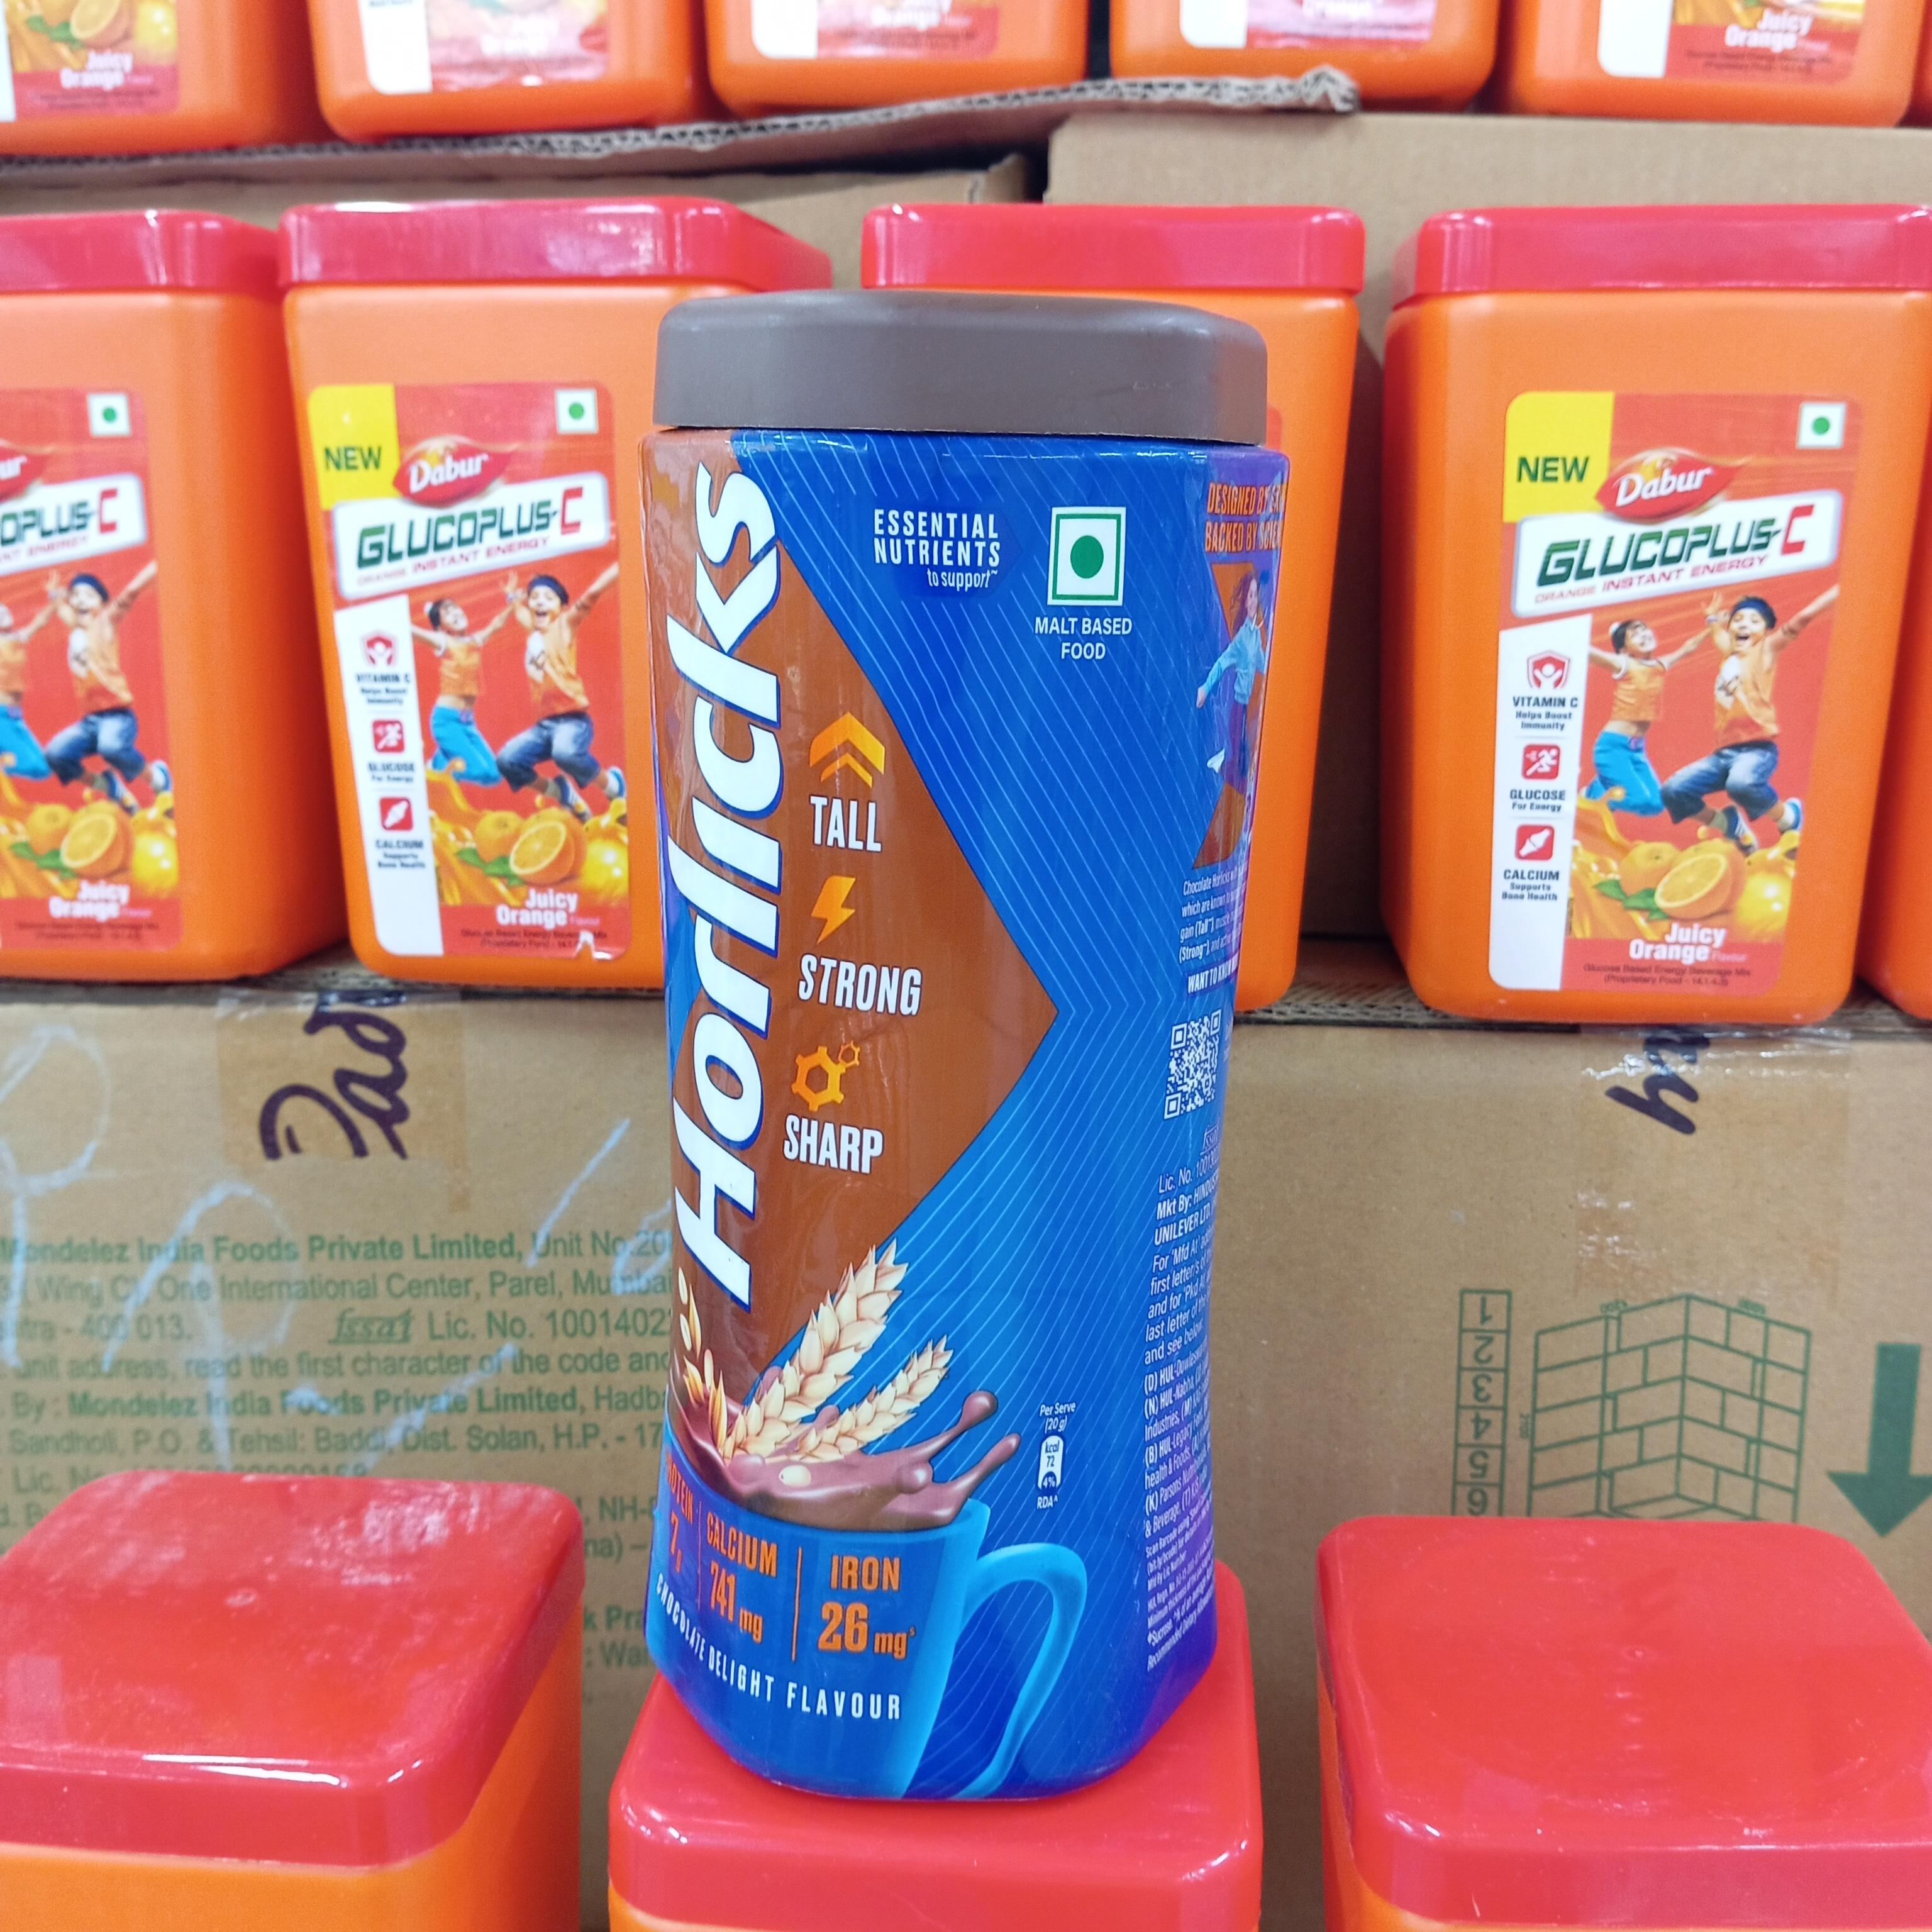HORLICK_CHOCOLATE_1_KG_JAR: (648, 295, 1267, 1787)
